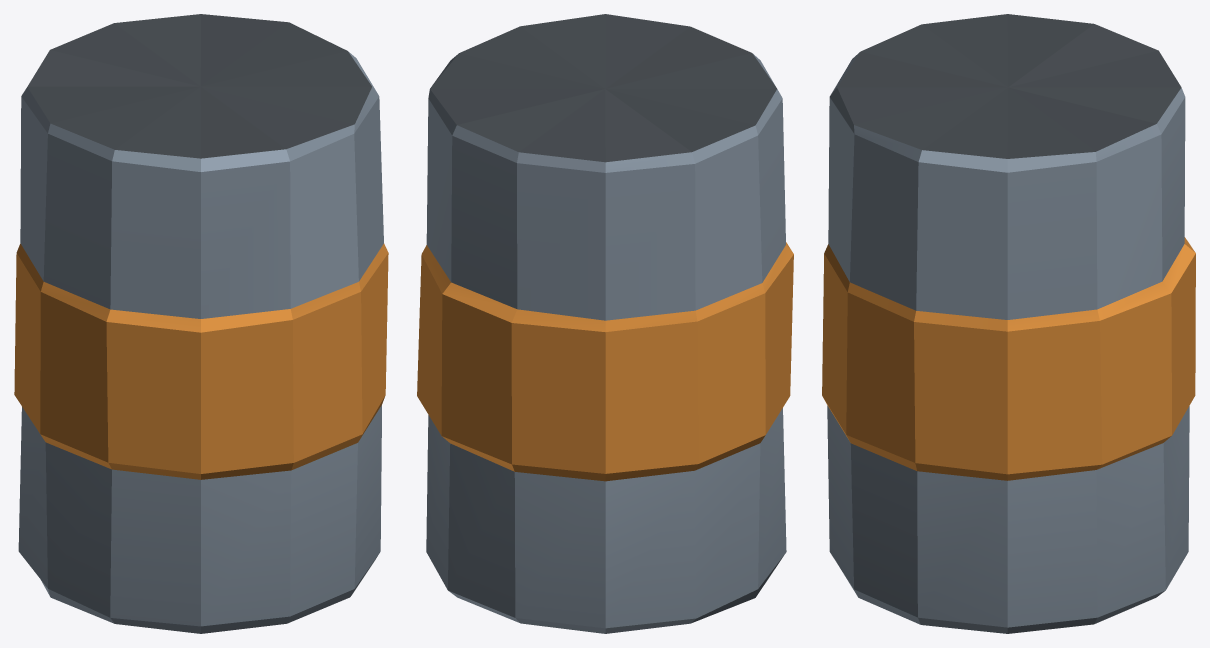
Rendered from obj_barriles.glb.
3 renders of one model, left to right at view 1: azimuth 30°, elevation 25°; view 2: azimuth 150°, elevation 25°; view 3: azimuth 270°, elevation 25°, orthographic.
Parts seen in each view (by area): view 1: propforge-libre-barriles; view 2: propforge-libre-barriles; view 3: propforge-libre-barriles.
Part boxes in pixels (<box>): propforge-libre-barriles: <box>14,14,388,633</box>; propforge-libre-barriles: <box>417,14,793,633</box>; propforge-libre-barriles: <box>822,14,1195,633</box>.
Bounding box in the file's own units: 0.3182 × 0.447 × 0.3196.
